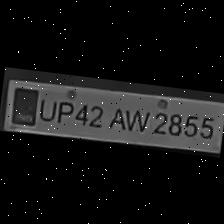2: (79, 100, 104, 128), (148, 108, 168, 136)
4: (74, 100, 96, 128)
5: (196, 112, 216, 139), (182, 110, 198, 138)
8: (164, 109, 184, 136)
A: (104, 102, 129, 130)
P: (50, 97, 74, 125)
U: (35, 92, 55, 124)
W: (122, 104, 150, 132)
